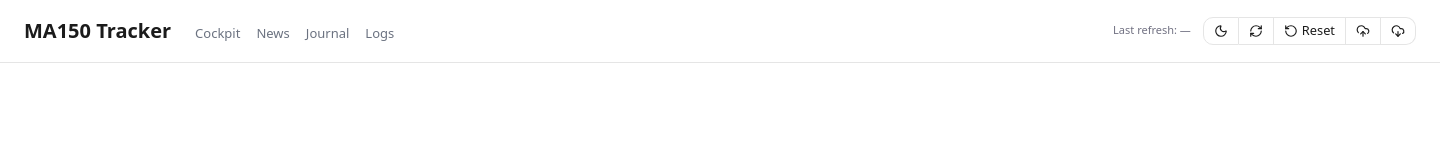
dark mode toggle › clicking toggles light -> dark and swaps the icon/label
This screenshot has width=1440, height=160.
Step 1. Click the button named "切换到深色模式" → (1221, 30), box 1203,16 -> 1239,44
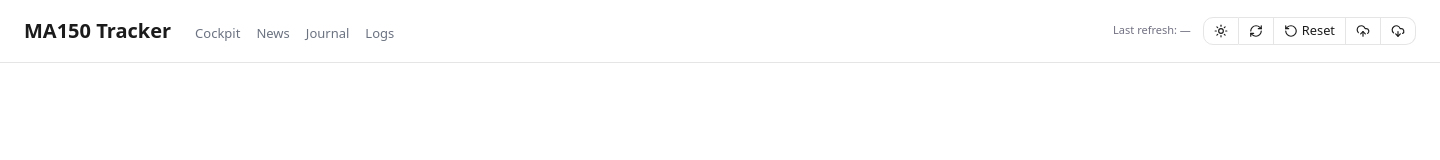
Now the button named "切换到浅色模式" is shown, box 1203,16 -> 1239,44
